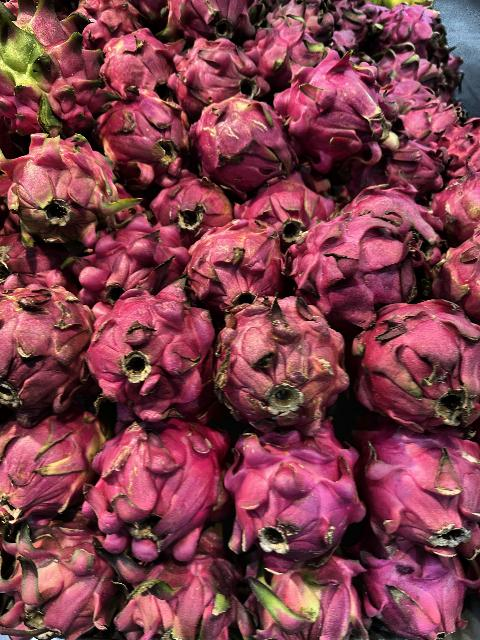buah-naga-belum-matang: (222, 300, 346, 424), (0, 0, 108, 136), (5, 134, 123, 248), (2, 526, 118, 640), (118, 542, 248, 640), (192, 92, 298, 188), (1, 418, 104, 509), (250, 566, 362, 640)
buah-naga-matang: (92, 417, 230, 561), (354, 412, 480, 558), (84, 284, 228, 406), (235, 422, 355, 560), (290, 217, 428, 323), (360, 306, 480, 424), (0, 276, 96, 418), (357, 530, 477, 640), (286, 68, 400, 172), (174, 32, 270, 126), (190, 220, 288, 308), (100, 25, 192, 117), (105, 98, 191, 184), (68, 221, 184, 281), (238, 172, 334, 242), (146, 174, 228, 236), (252, 17, 322, 82)
